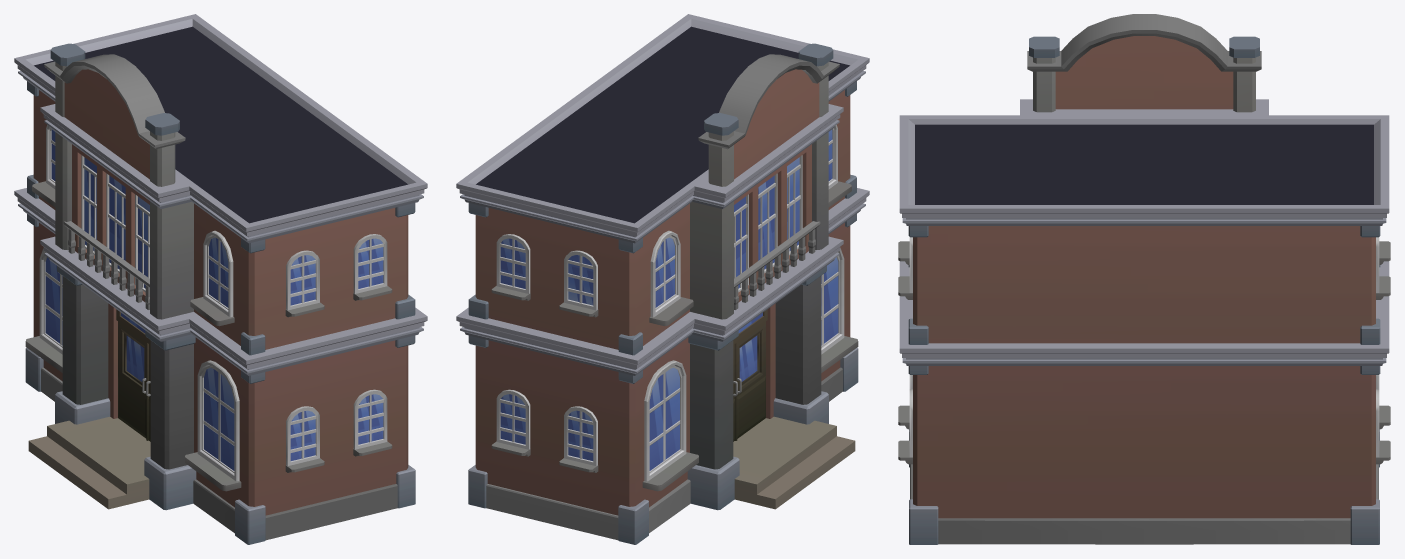
Rendered from Building_24_L.fbx.
3 views of the same model, side by side, from view 1: azimuth 30°, elevation 25°; view 2: azimuth 150°, elevation 25°; view 3: azimuth 270°, elevation 25° (orthographic). The views are drawn at different scales.
Visible parts, largest first — view 1: Building_24_L; view 2: Building_24_L; view 3: Building_24_L.
Boxes of the visible parts, bbox=[...] form: Building_24_L: bbox=[14, 14, 427, 544]; Building_24_L: bbox=[456, 14, 869, 544]; Building_24_L: bbox=[898, 14, 1390, 544].
Size of the model in its own units: 535 by 847 by 888.
